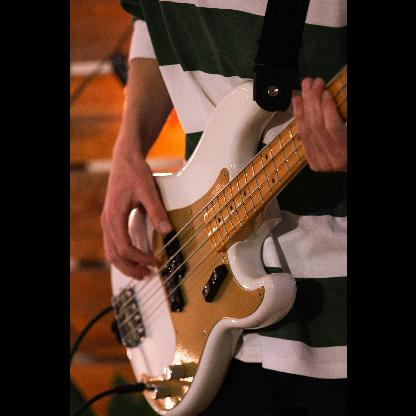bass: (107, 66, 345, 416)
